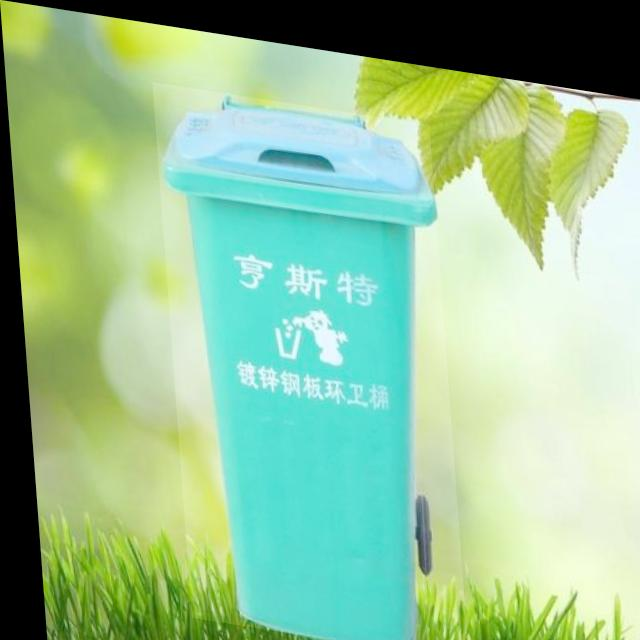garbage_bin: (152, 77, 460, 640)
